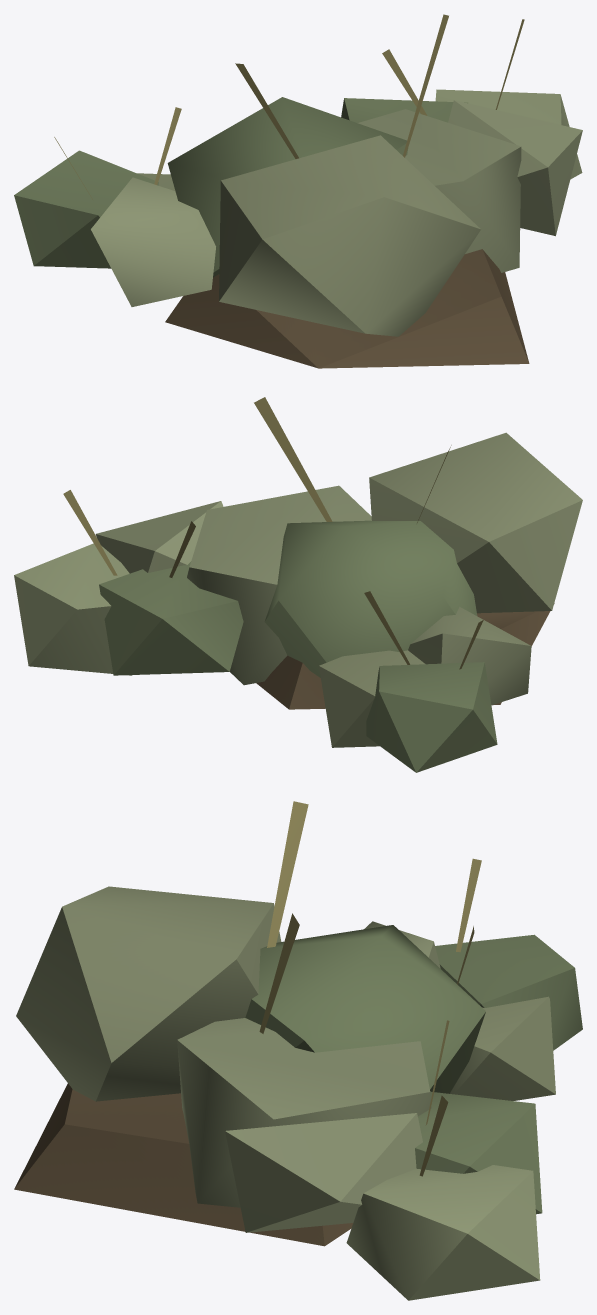
File: bursage_a_lod2.glb
3 renders of one model, top to bottom at view 1: azimuth 30°, elevation 25°; view 2: azimuth 150°, elevation 25°; view 3: azimuth 270°, elevation 25°, orthographic. The views are drawn at different scales.
Visible parts, largest first — view 1: Surface.001; view 2: Surface.001; view 3: Surface.001.
Part boxes in pixels (x1,y1,x2,y2): Surface.001: (14, 14, 582, 368); Surface.001: (14, 397, 582, 772); Surface.001: (14, 801, 582, 1300).
Bounding box in the file's own units: 2.08 × 1.02 × 1.69.
